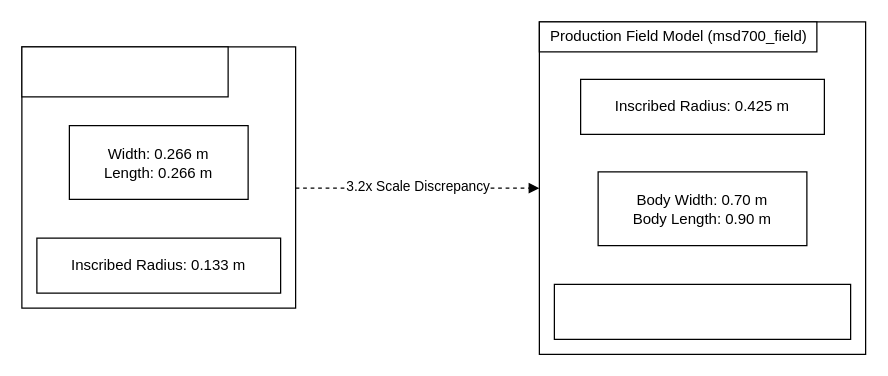
Some shapes in this 888 by 376 pixel diagram are drawn without their labels. The centre of each missing label's shape, as x and y in pixels:
"Costmap Envelope: 1.20 x 0.85 m" goes at pixel 702 311.
"Legacy Sim Model (TurtleBot3 Waffle)" goes at pixel 124 71.
